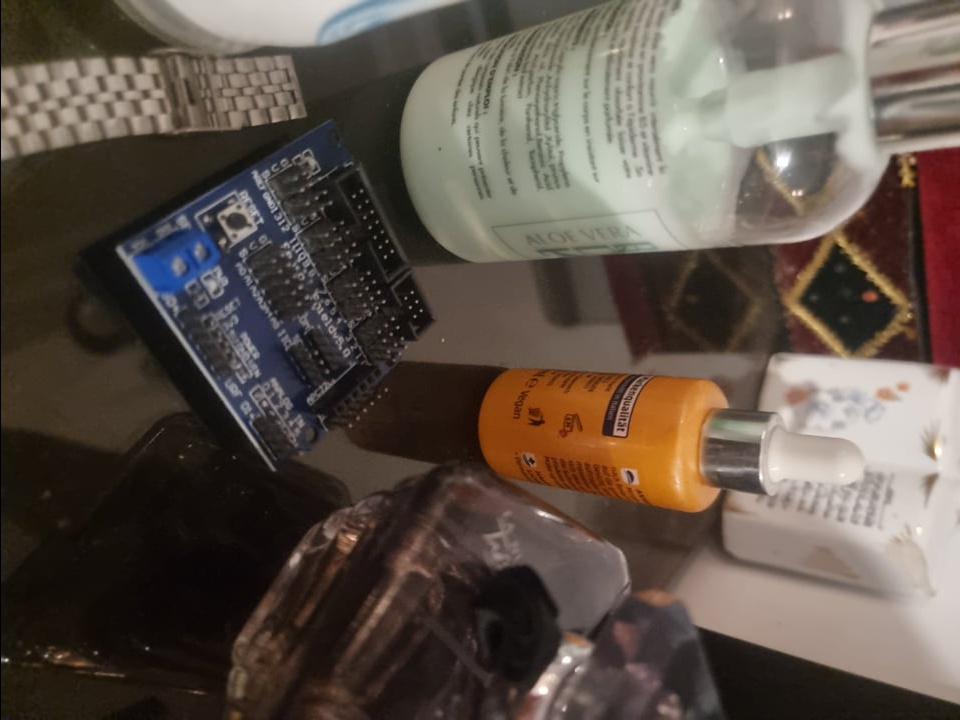5V EXPANSION: (114, 116, 435, 476)
